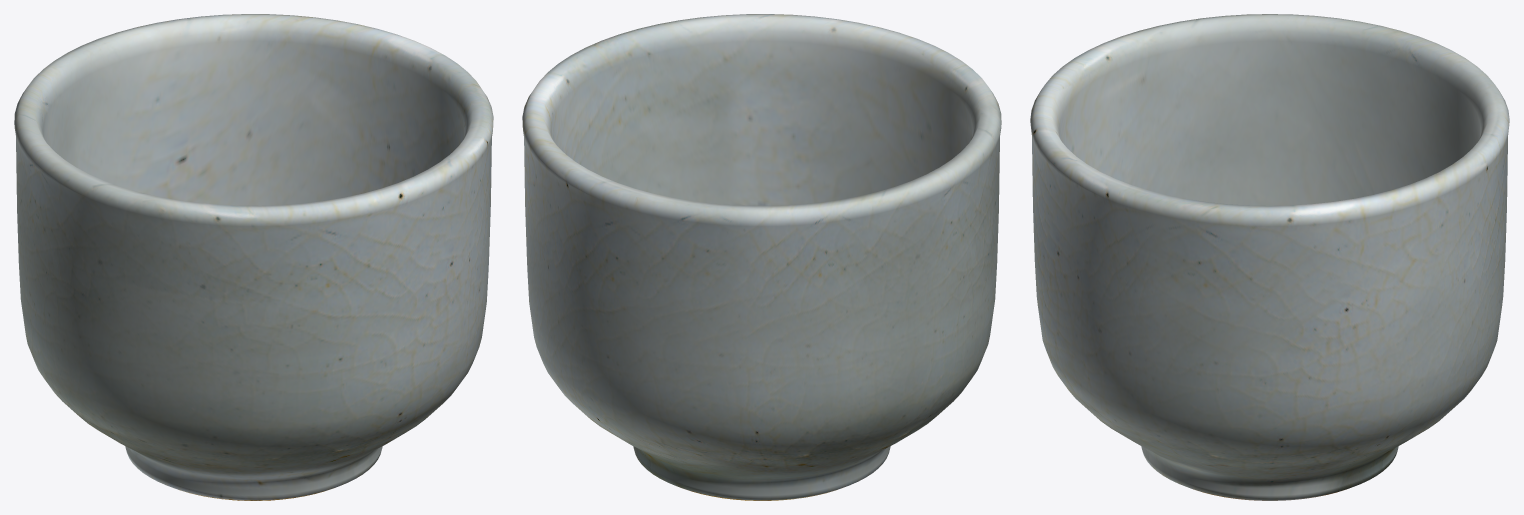
Rendered from SM_WhitePorcelainCup.fbx.
The picture shows the model from 3 angles, left to right: view 1: azimuth 30°, elevation 25°; view 2: azimuth 150°, elevation 25°; view 3: azimuth 270°, elevation 25°; orthographic projection.
Visible parts, largest first — view 1: SM_WhitePorcelainCup; view 2: SM_WhitePorcelainCup; view 3: SM_WhitePorcelainCup.
Boxes of the visible parts, <box> form: SM_WhitePorcelainCup: <box>14,14,493,500</box>; SM_WhitePorcelainCup: <box>522,14,1001,500</box>; SM_WhitePorcelainCup: <box>1030,14,1509,500</box>.
Size of the model in its own units: 7.33 by 5.7 by 7.33.
